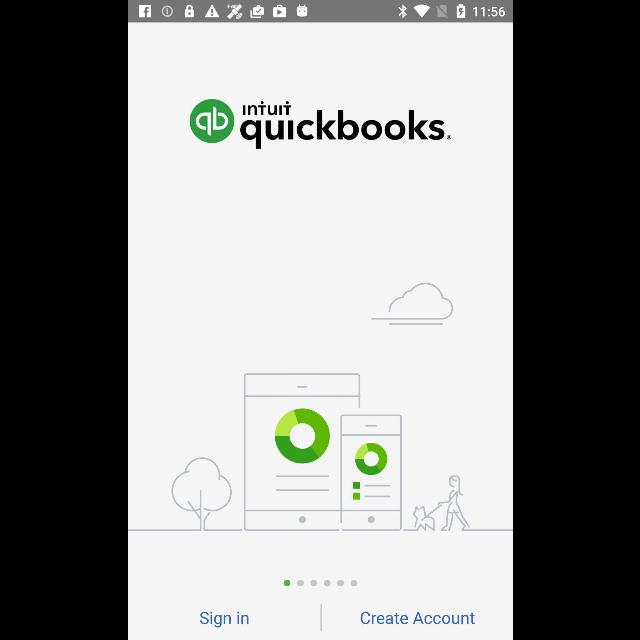image: (165, 282, 472, 532), (189, 99, 451, 150)
pageindicator: (282, 578, 358, 588)
text: (360, 611, 474, 625), (199, 610, 249, 628)
uppertaskbar: (128, 1, 512, 23)
